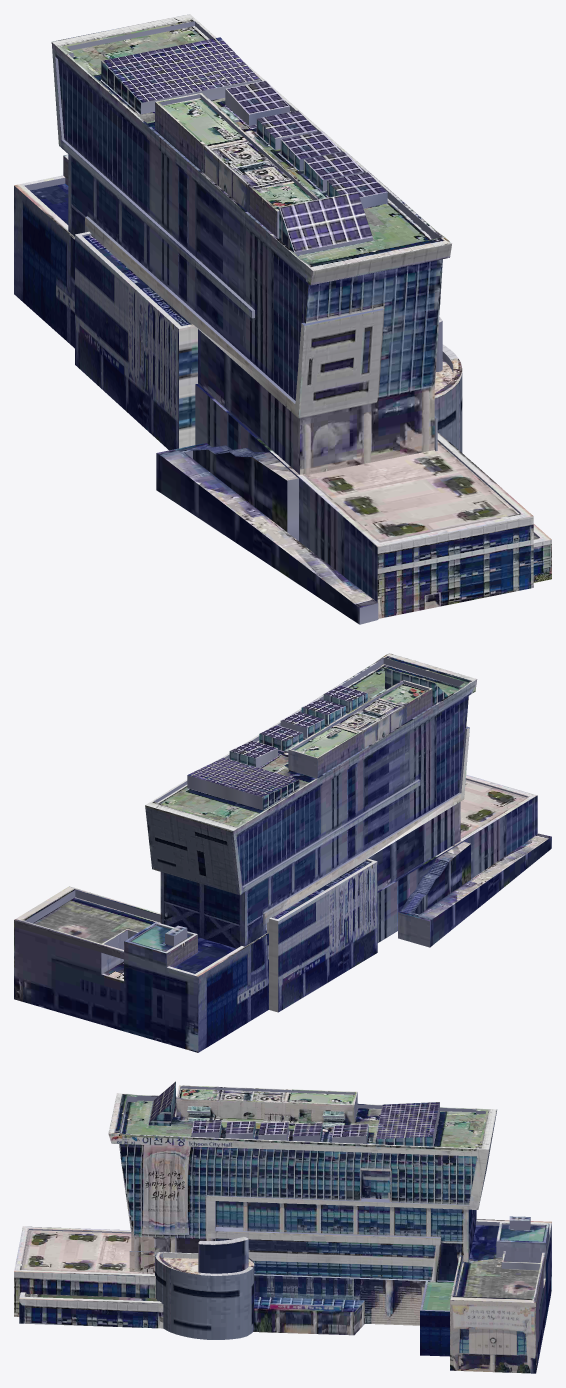
File: ICCH0001.glb
3 views of the same model, one above another, from view 1: azimuth 30°, elevation 25°; view 2: azimuth 150°, elevation 25°; view 3: azimuth 270°, elevation 25° (orthographic). The views are drawn at different scales.
Visible parts, largest first — view 1: MainBuilding; view 2: MainBuilding; view 3: MainBuilding.
Boxes of the visible parts, <box> form: MainBuilding: <box>14,14,551,624</box>; MainBuilding: <box>14,653,551,1052</box>; MainBuilding: <box>14,1081,551,1373</box>.
Size of the model in its own units: 0.5903 by 0.4823 by 1.19.
Materials: 1 (1 with a texture image).
